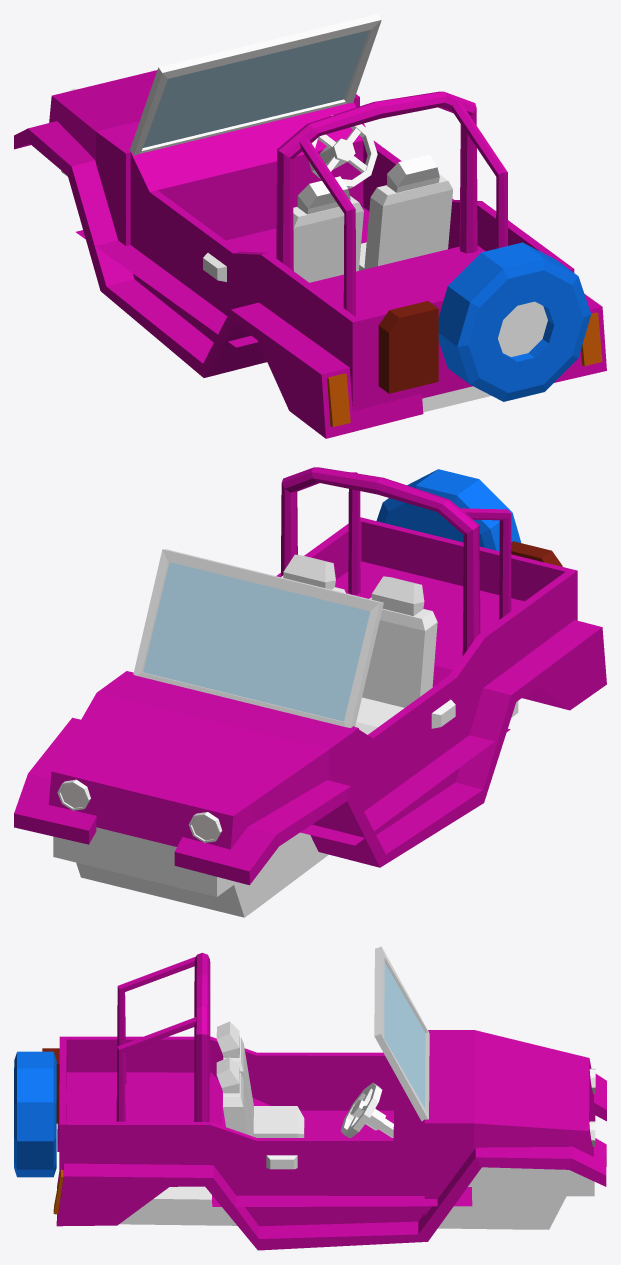
File: jeep.gltf
3 renders of one model, top to bottom at view 1: azimuth 30°, elevation 25°; view 2: azimuth 150°, elevation 25°; view 3: azimuth 270°, elevation 25°, orthographic. The views are drawn at different scales.
Visible parts, largest first — view 1: Jeep; view 2: Jeep; view 3: Jeep.
Part boxes in pixels (x1=…): Jeep: x1=14, y1=14, x2=606, y2=438; Jeep: x1=14, y1=467, x2=606, y2=917; Jeep: x1=14, y1=946, x2=606, y2=1250.
Size of the model in its own units: 2.05 by 1.86 by 4.56.
